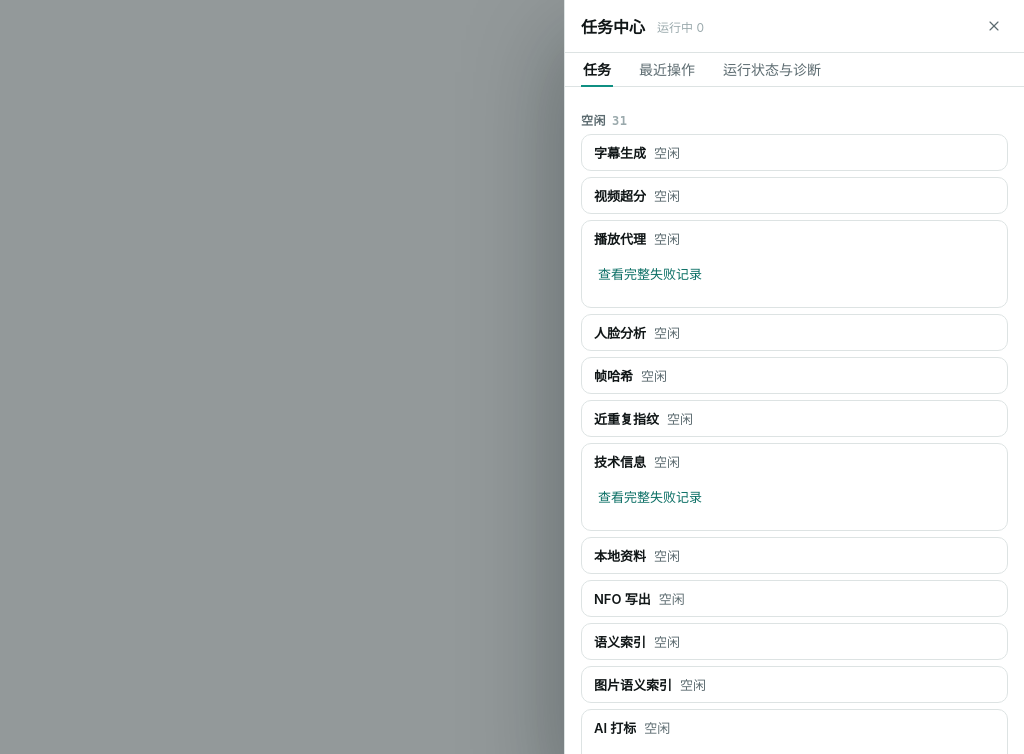
Scenario: 任务中心快照展示（APP-03） › 运行状态只在选中该页签后检查，关闭后不挂载诊断页面
Click the tab with test id "task-center-tab-health": (772, 70) [721, 53, 823, 87]
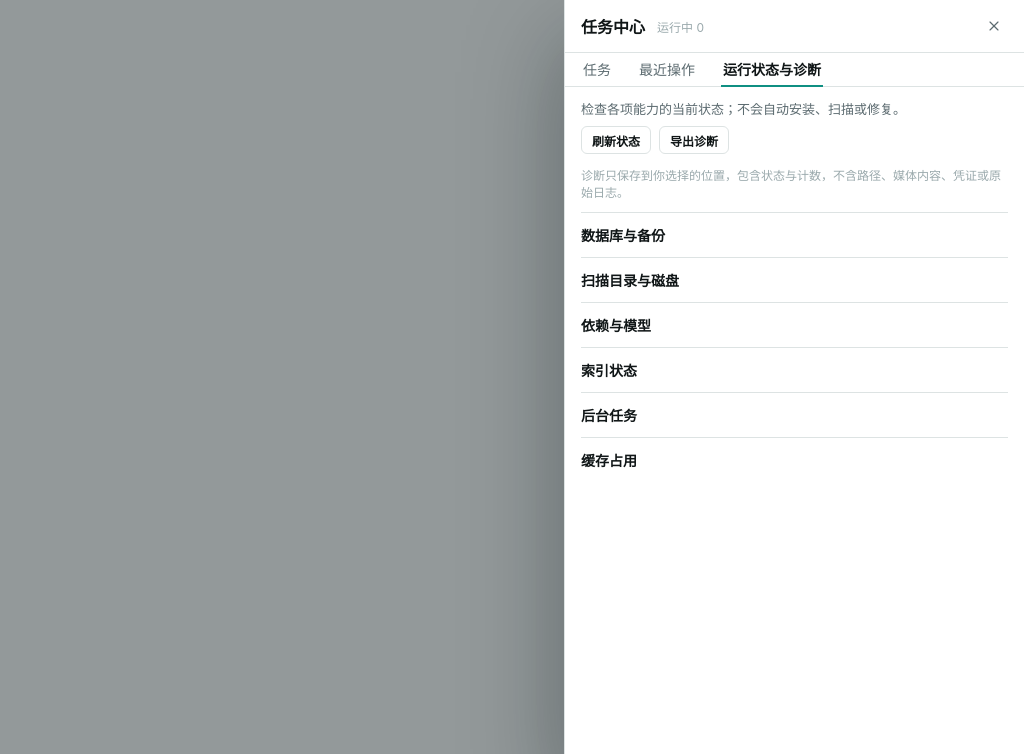
Now the element with test id "system-health" is shown, box [581, 99, 1008, 470]
